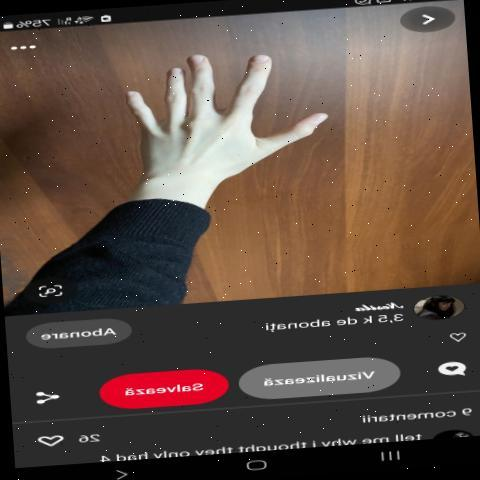Hands: (63, 15, 356, 194)
